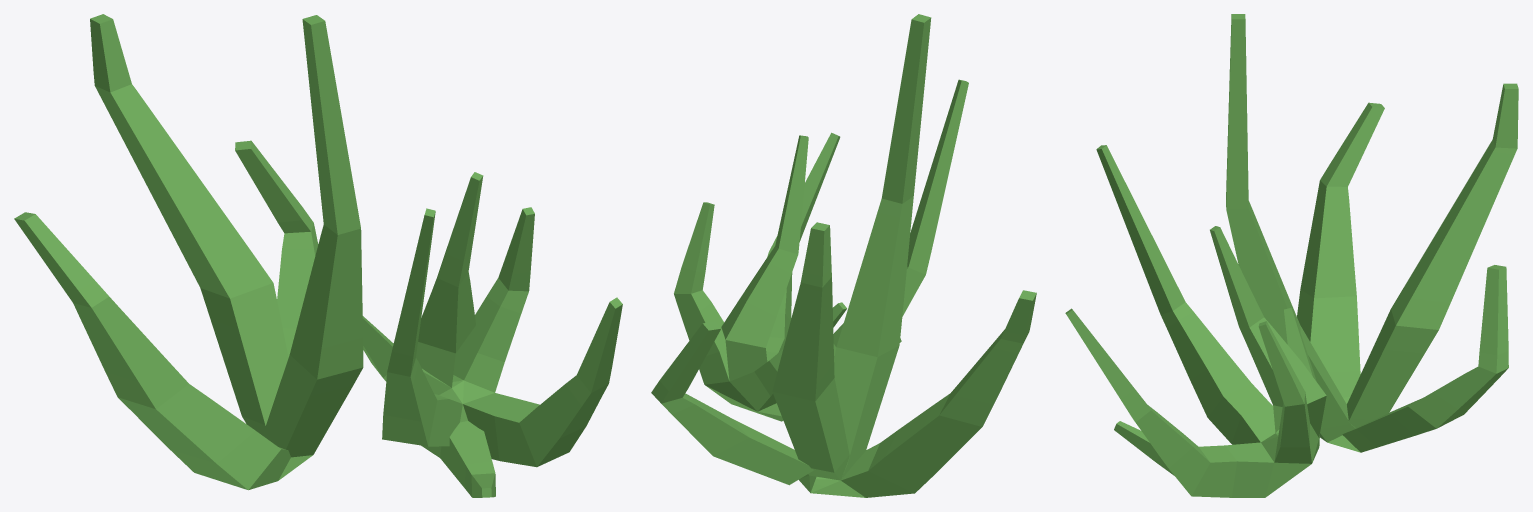
File: Grass2.fbx
The picture shows the model from 3 angles, left to right: view 1: azimuth 30°, elevation 25°; view 2: azimuth 150°, elevation 25°; view 3: azimuth 270°, elevation 25°; orthographic projection. The views are drawn at different scales.
Parts seen in each view (by area): view 1: Grass2.1, Grass2.2; view 2: Grass2.1, Grass2.2; view 3: Grass2.1, Grass2.2.
Boxes of the visible parts, left/top/right/bottom form: Grass2.1: left=14, top=14, right=363, bottom=490; Grass2.2: left=362, top=172, right=622, bottom=497; Grass2.1: left=651, top=14, right=1036, bottom=497; Grass2.2: left=674, top=79, right=968, bottom=421; Grass2.1: left=1226, top=14, right=1518, bottom=452; Grass2.2: left=1065, top=145, right=1326, bottom=497.
Bounding box in the file's own units: 87.47 × 90.83 × 90.19.
